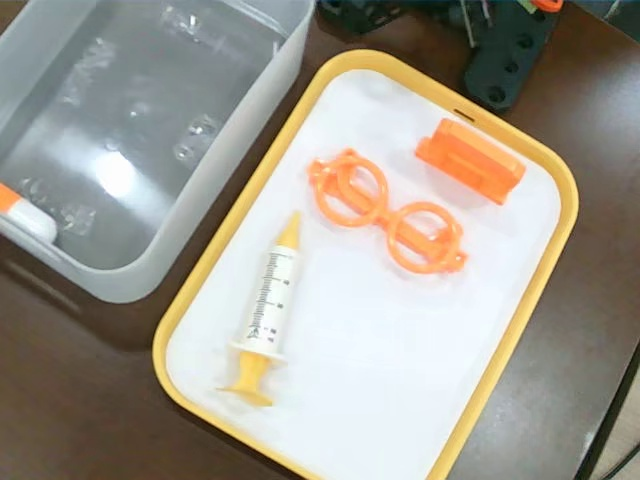pill: (2, 182, 62, 251)
syringe: (218, 207, 303, 409)
